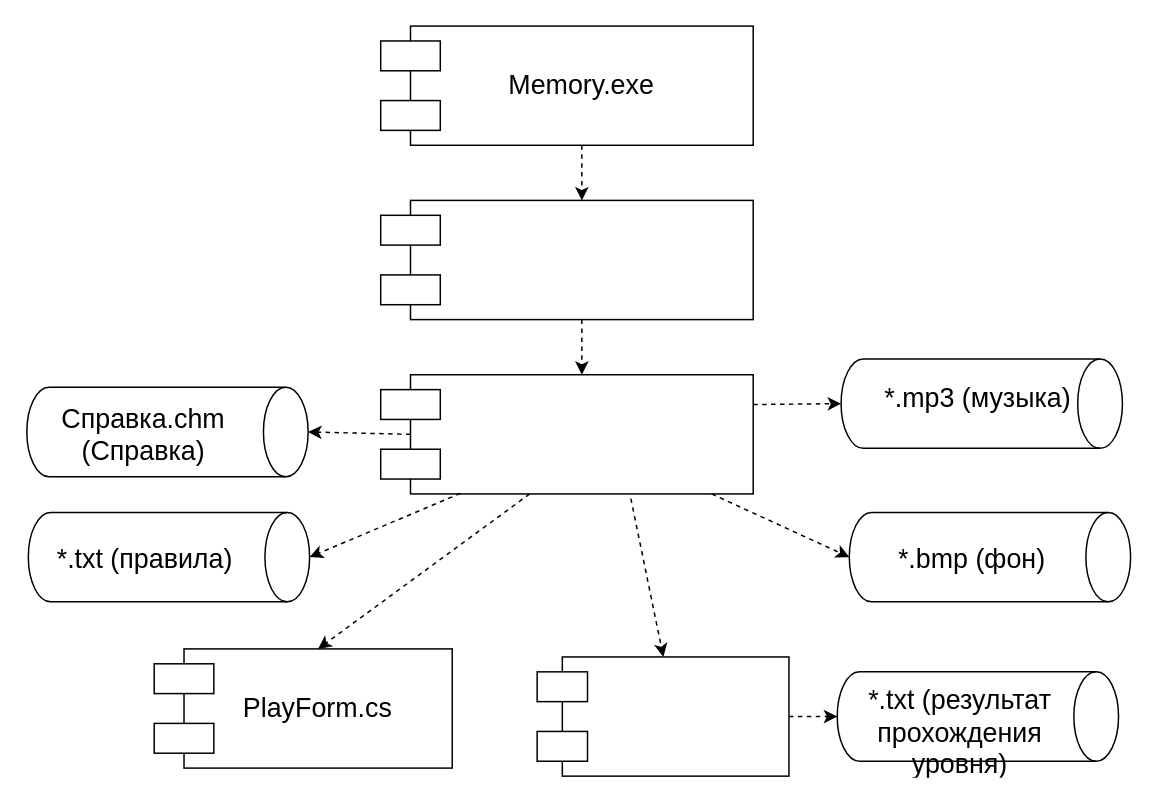
Image size: 1156x805. Some labels were removed from this diagram. The box of each missing label's shape, as (x1, y1, x2, y2) in pixels:
LoadingForm.cs: (409, 199, 753, 320)
MainForm.cs: (409, 373, 753, 494)
ResultsForm.cs: (561, 655, 789, 776)
